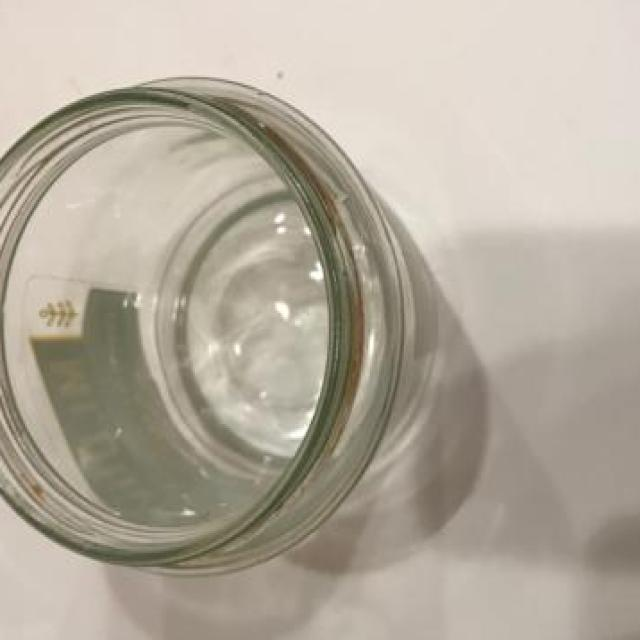organic: (3, 76, 428, 575)
